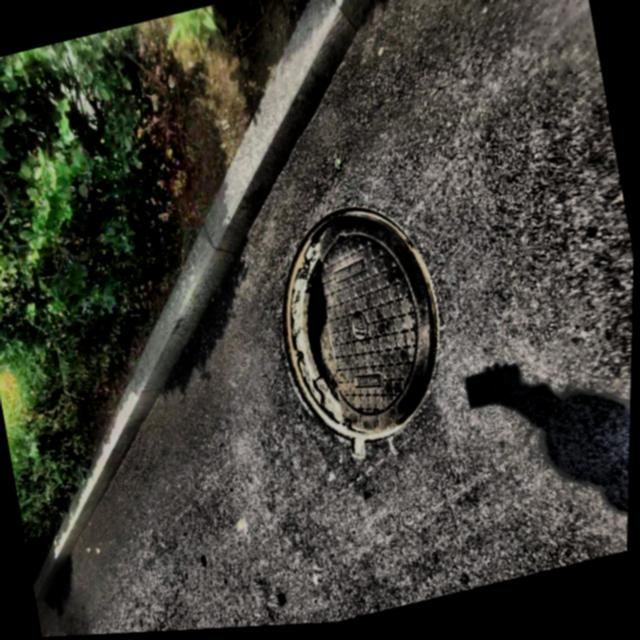Open Manhole: (253, 191, 458, 455)
